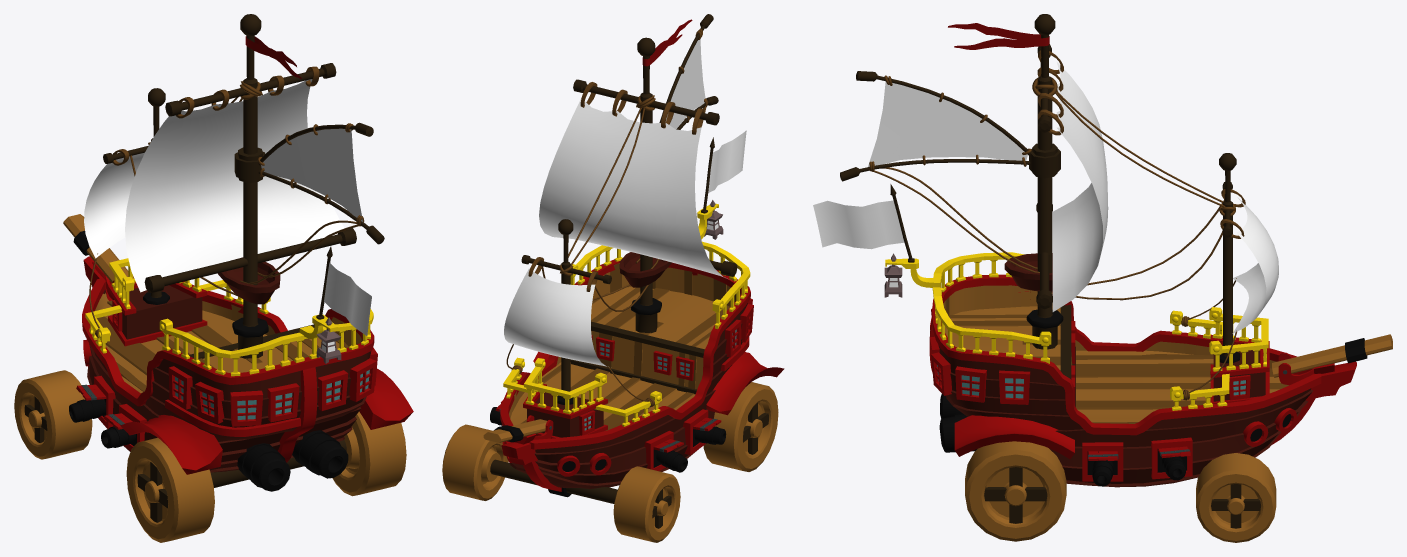
File: Pirate_Kart01.FBX
The picture shows the model from 3 angles, left to right: view 1: azimuth 30°, elevation 25°; view 2: azimuth 150°, elevation 25°; view 3: azimuth 270°, elevation 25°; orthographic projection. The views are drawn at different scales.
Visible parts, largest first — view 1: Large_Sail, Trim_Objects, outer_body, Cylinder005, Wheel_Back01, Base Floor, Railing, Wheel_Front01, Back_Sail, Wheel_Back02, Small_Sail, Back_Sail_Frame (+10 smaller); view 2: Large_Sail, Base Floor, Trim_Objects, outer_body, Small_Sail, Railing, Cylinder005, Wheel_Back01, Wheel_Front01, Wheel_Front02, Back_Sail, Flag (+8 smaller); view 3: Trim_Objects, Base Floor, outer_body, Wheel_Back02, Large_Sail, Back_Sail, Railing, Cylinder005, Wheel_Front02, Flag, Back_Sail_Frame, Small_Sail (+3 smaller).
Part boxes in pixels (box(x1,y1,x2,y2)): Large_Sail: box(125, 79, 344, 292); Trim_Objects: box(76, 256, 413, 474); outer_body: box(87, 257, 371, 472); Cylinder005: box(103, 14, 356, 358); Wheel_Back01: box(126, 437, 214, 542); Base Floor: box(95, 293, 362, 393); Railing: box(85, 258, 373, 376); Wheel_Front01: box(14, 370, 92, 459); Back_Sail: box(261, 128, 363, 222); Wheel_Back02: box(332, 411, 406, 496); Small_Sail: box(84, 152, 144, 258); Back_Sail_Frame: box(234, 122, 384, 244); Large_Sail: box(539, 98, 727, 278); Base Floor: box(509, 263, 740, 449); Trim_Objects: box(495, 259, 784, 491); outer_body: box(510, 252, 747, 488); Small_Sail: box(504, 268, 608, 366); Railing: box(503, 203, 750, 426); Cylinder005: box(521, 37, 737, 404); Wheel_Back01: box(703, 382, 778, 471); Wheel_Front01: box(613, 466, 680, 542); Wheel_Front02: box(442, 424, 508, 500); Back_Sail: box(665, 39, 705, 129); Flag: box(708, 130, 746, 192); Trim_Objects: box(929, 274, 1356, 481); Base Floor: box(943, 285, 1288, 423); outer_body: box(938, 253, 1313, 487); Wheel_Back02: box(965, 441, 1066, 541); Large_Sail: box(1052, 62, 1108, 311); Back_Sail: box(868, 81, 1027, 166); Railing: box(885, 252, 1268, 410); Cylinder005: box(1026, 14, 1240, 363); Wheel_Front02: box(1196, 453, 1276, 542); Flag: box(813, 200, 904, 249); Back_Sail_Frame: box(840, 71, 1060, 181); Small_Sail: box(1232, 197, 1278, 333).
Bounding box in the file's own units: 131 × 252 × 280.
